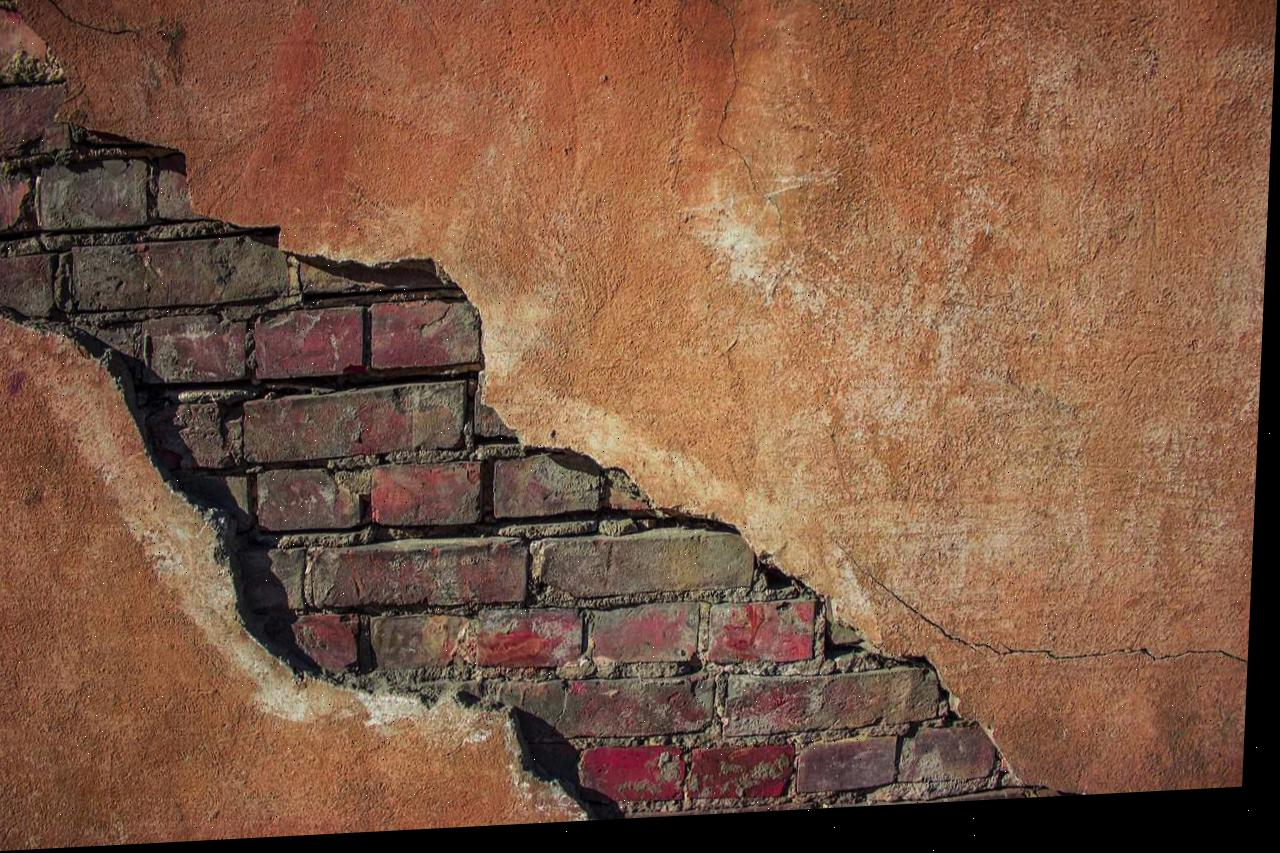spalling: (0, 7, 1035, 816)
